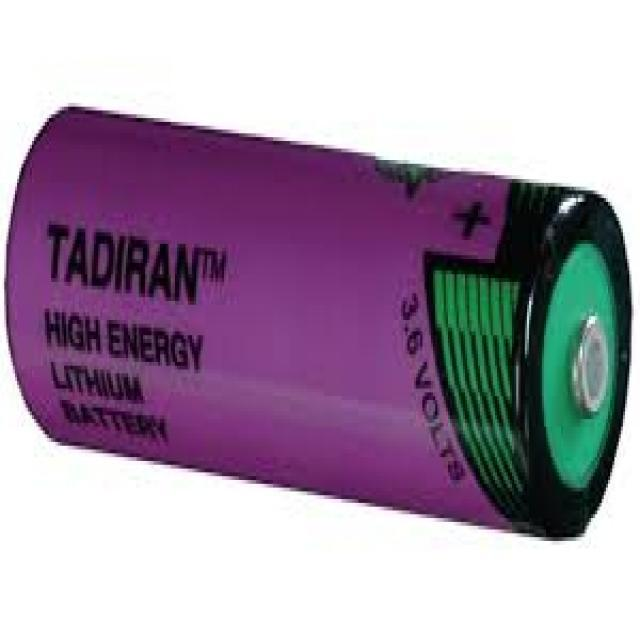battery: (0, 104, 634, 546)
